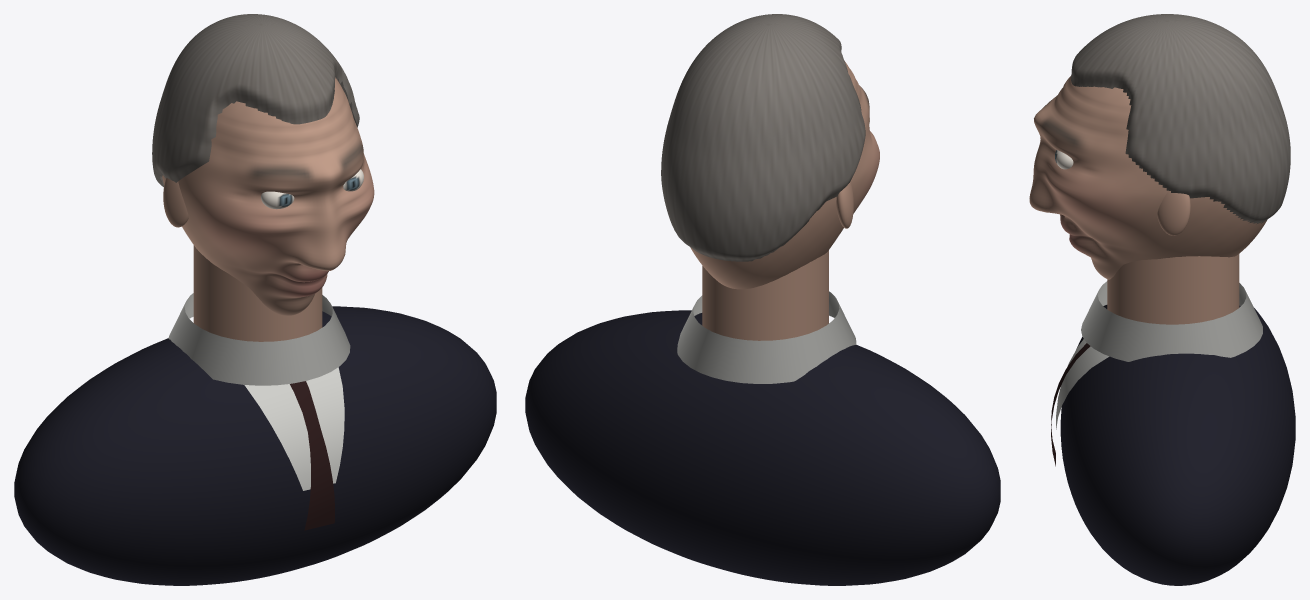
Rendered from seaborg_face.glb.
3 views of the same model, side by side, from view 1: azimuth 30°, elevation 25°; view 2: azimuth 150°, elevation 25°; view 3: azimuth 270°, elevation 25° (orthographic). The views are drawn at different scales.
Visible parts, largest first — view 1: jacket, face_head, hair, collar, neck, shirt, tie, ear_L; view 2: jacket, hair, collar, neck, face_head, ear_L; view 3: jacket, hair, face_head, neck, collar, ear_R, shirt, tie.
Part boxes in pixels (x1=…): jacket: x1=14, y1=306, x2=496, y2=585; face_head: x1=162, y1=77, x2=374, y2=315; hair: x1=152, y1=14, x2=359, y2=187; collar: x1=168, y1=293, x2=350, y2=385; neck: x1=193, y1=245, x2=322, y2=341; shirt: x1=244, y1=367, x2=344, y2=490; tie: x1=290, y1=381, x2=334, y2=530; ear_L: x1=163, y1=178, x2=188, y2=227; jacket: x1=525, y1=310, x2=1000, y2=585; hair: x1=661, y1=14, x2=865, y2=261; collar: x1=677, y1=291, x2=856, y2=383; neck: x1=702, y1=250, x2=828, y2=340; face_head: x1=690, y1=61, x2=879, y2=289; ear_L: x1=836, y1=182, x2=853, y2=228; jacket: x1=1060, y1=305, x2=1295, y2=585; hair: x1=1071, y1=14, x2=1290, y2=224; face_head: x1=1029, y1=75, x2=1267, y2=279; neck: x1=1107, y1=254, x2=1239, y2=324; collar: x1=1081, y1=281, x2=1262, y2=361; ear_R: x1=1157, y1=190, x2=1190, y2=235; shirt: x1=1056, y1=339, x2=1109, y2=429; tie: x1=1051, y1=343, x2=1090, y2=466.
Size of the model in its own units: 0.4292 by 0.4788 by 0.2215.
